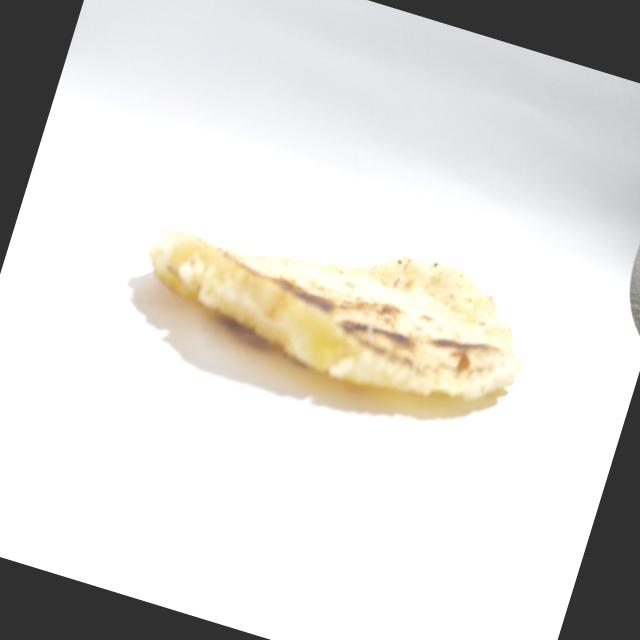Mbeju: (115, 164, 552, 463)
